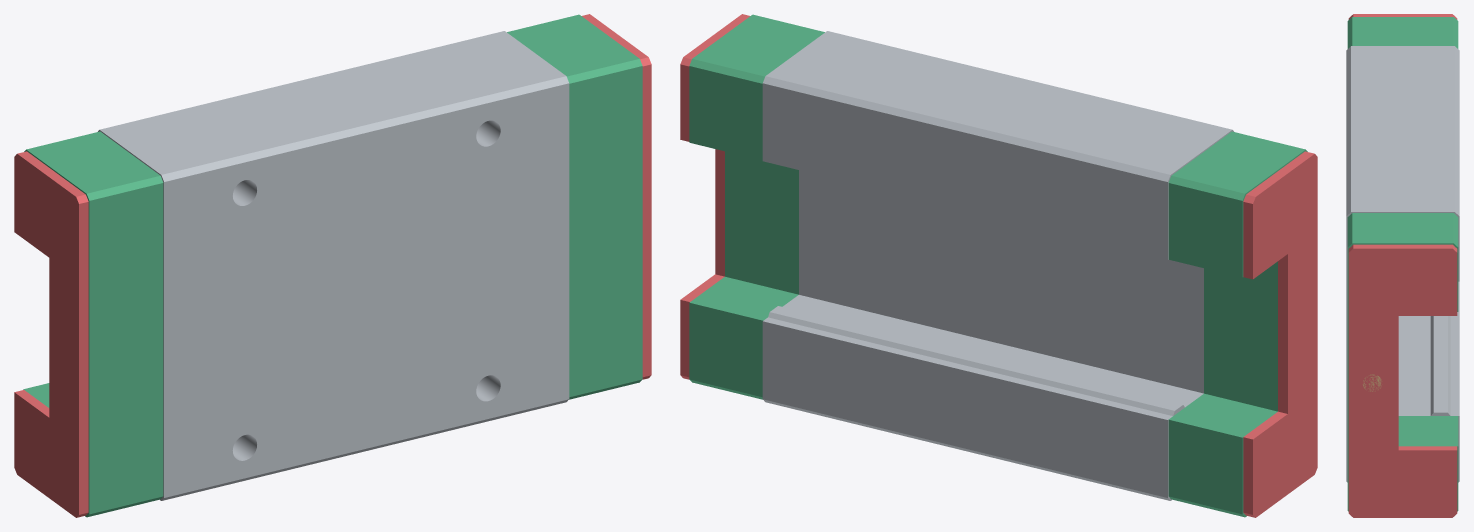
The picture shows the model from 3 angles, left to right: view 1: azimuth 30°, elevation 25°; view 2: azimuth 150°, elevation 25°; view 3: azimuth 270°, elevation 25°; orthographic projection. The views are drawn at different scales.
Visible parts, largest first — view 1: steel_saddle, endcap_neg_x, endcap_pos_x, wiper_neg_x, wiper_pos_x; view 2: steel_saddle, endcap_neg_x, endcap_pos_x, wiper_neg_x, wiper_pos_x; view 3: steel_saddle, wiper_pos_x, endcap_pos_x, endcap_neg_x, wiper_neg_x, grease_port.
Boxes of the visible parts, <box> form: steel_saddle: <box>98,31,569,500</box>; endcap_neg_x: <box>23,131,163,517</box>; endcap_pos_x: <box>507,14,642,399</box>; wiper_neg_x: <box>14,151,88,517</box>; wiper_pos_x: <box>582,14,651,379</box>; steel_saddle: <box>762,31,1233,500</box>; endcap_neg_x: <box>1168,131,1307,517</box>; endcap_pos_x: <box>689,14,824,399</box>; wiper_neg_x: <box>1243,151,1317,517</box>; wiper_pos_x: <box>680,14,749,379</box>; steel_saddle: <box>1346,46,1459,482</box>; wiper_pos_x: <box>1348,244,1457,517</box>; endcap_pos_x: <box>1347,213,1458,511</box>; endcap_neg_x: <box>1347,17,1458,48</box>; wiper_neg_x: <box>1348,14,1457,19</box>; grease_port: <box>1363,374,1381,391</box>.
Bounding box in the file's own units: 0.0588 × 0.032 × 0.012.
